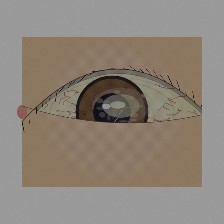corneal_ulcer: (91, 82, 151, 130)
